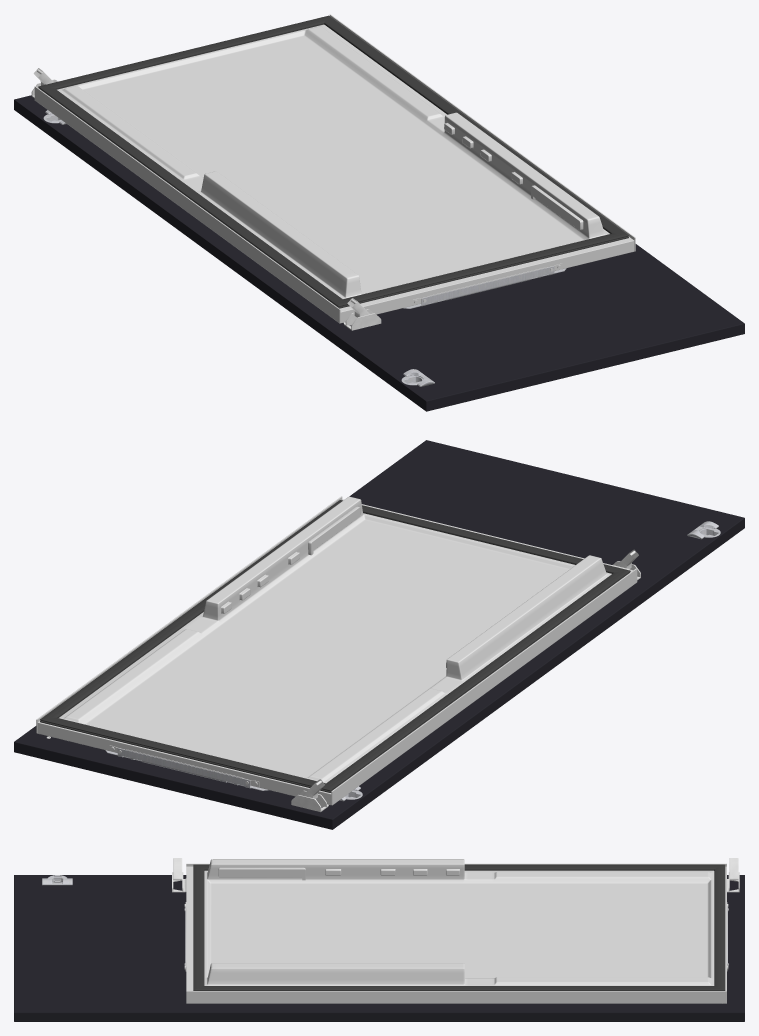
File: SM_Fridge_Door_01.obj
3 views of the same model, one above another, from view 1: azimuth 30°, elevation 25°; view 2: azimuth 150°, elevation 25°; view 3: azimuth 270°, elevation 25° (orthographic). The views are drawn at different scales.
Visible parts, largest first — view 1: SM_Fridge_Door_01; view 2: SM_Fridge_Door_01; view 3: SM_Fridge_Door_01.
Part boxes in pixels (x1,y1,x2,y2): SM_Fridge_Door_01: (14, 14, 744, 411); SM_Fridge_Door_01: (14, 440, 744, 829); SM_Fridge_Door_01: (14, 858, 744, 1021).
Size of the model in its own units: 0.5969 by 0.0789 by 1.34.
